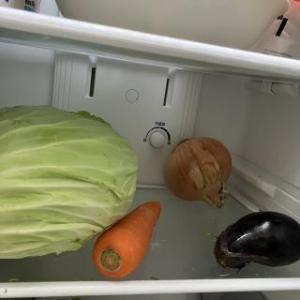cabbage: (1, 104, 140, 260)
carrot: (91, 200, 163, 280)
eggplant: (214, 209, 300, 274)
onion: (163, 136, 234, 209)
